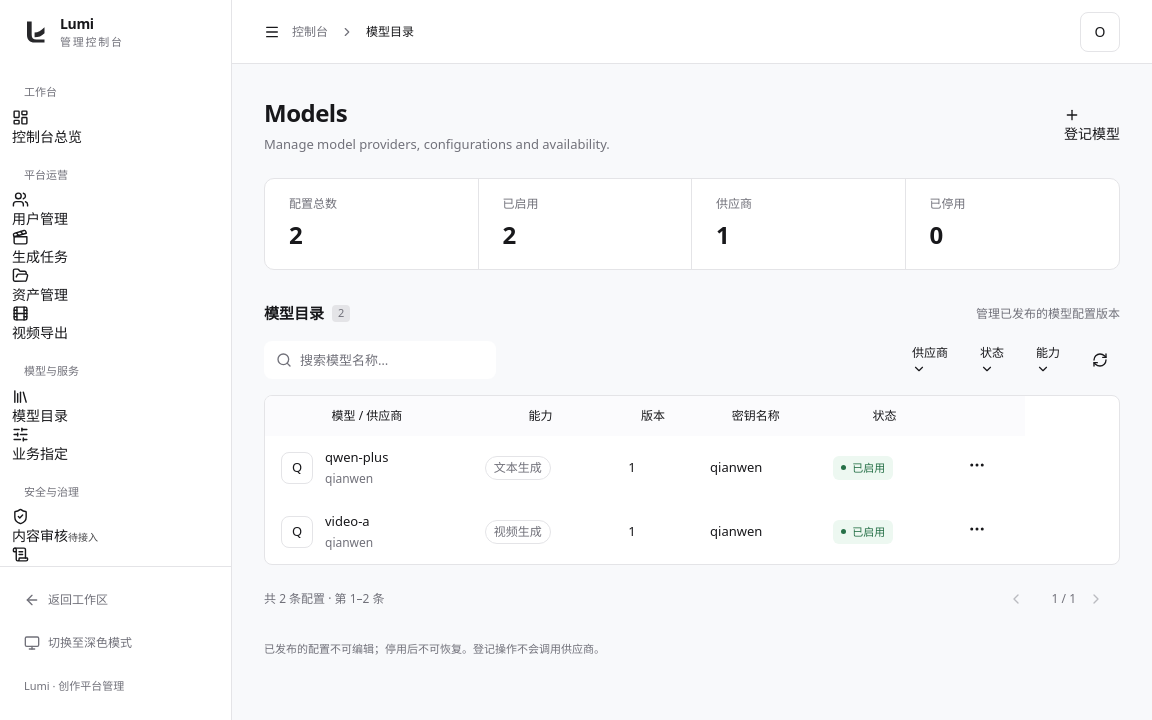
Test: model admin page › filters the catalog by capability tag and model name
This screenshot has width=1152, height=720.
Expected: the text "qwen-plus" is shown, [325,448,388,468]
Type "plus" into the field labelled "搜索模型名称" at point(380, 360), box [264,341,496,379]
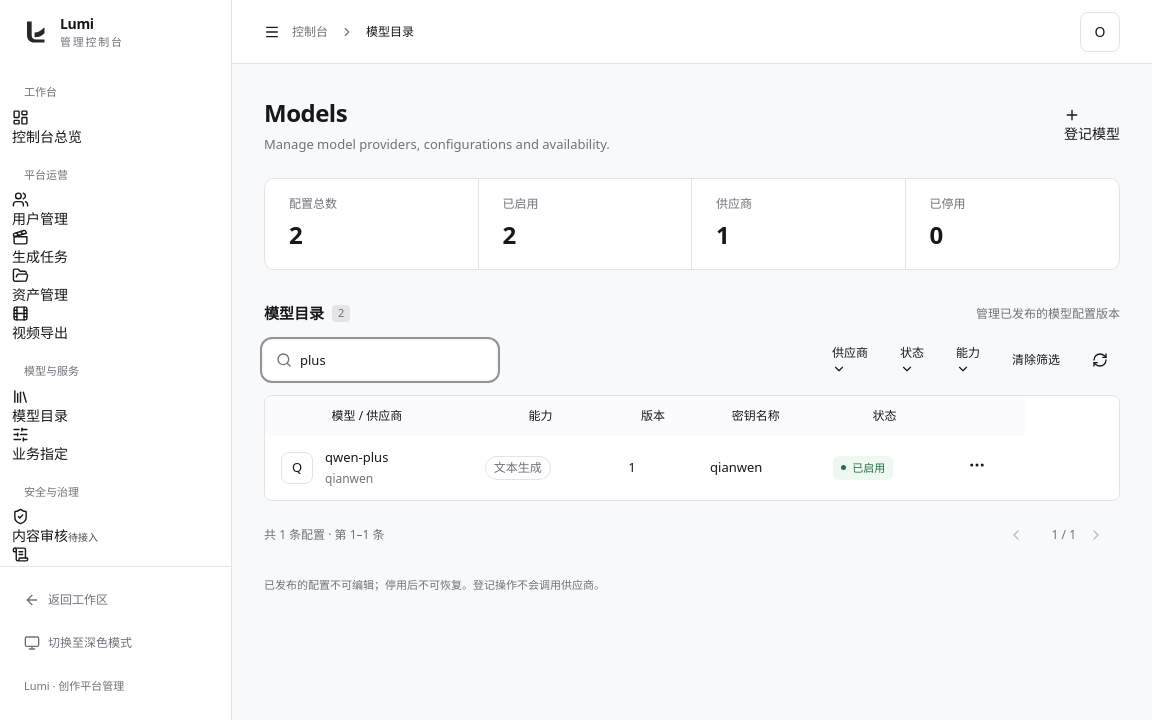
Expected: the text "qwen-plus" is shown, [325,448,388,468]
Expected: the text "video-a" is gone
Clear the field named "搜索模型名称" at point(380, 360), box [264,341,496,379]
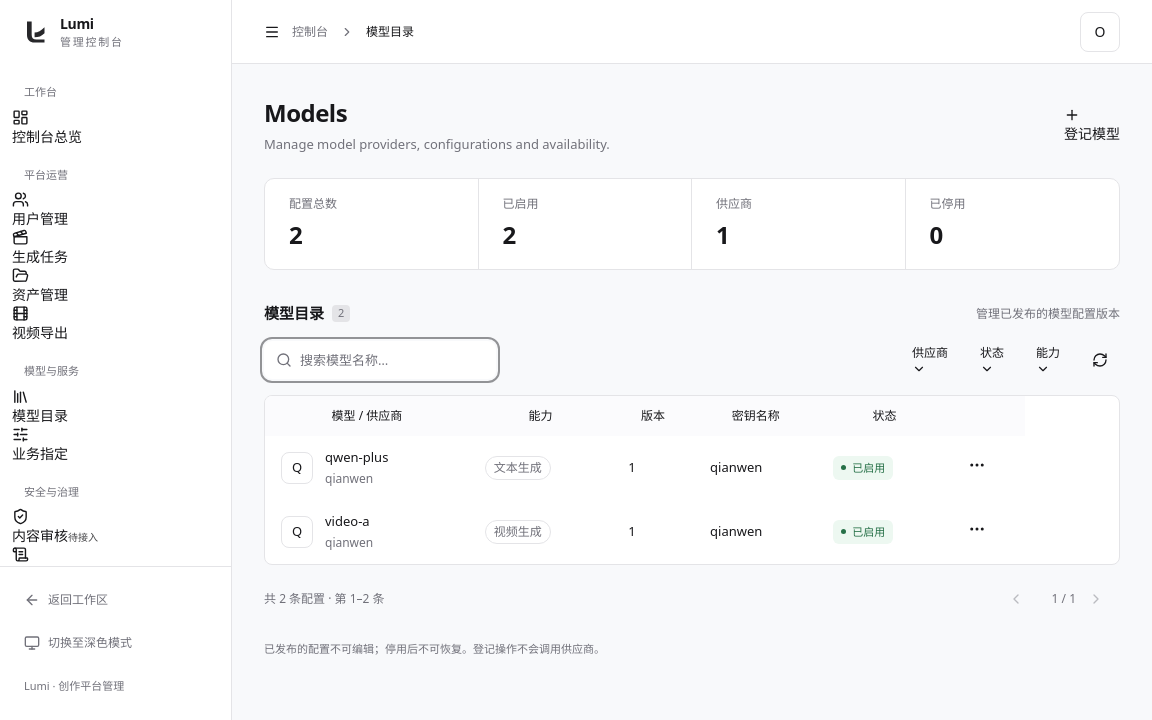
Click the button with aria-label "能力筛选" at point(1048, 360), box [1024,342,1072,378]
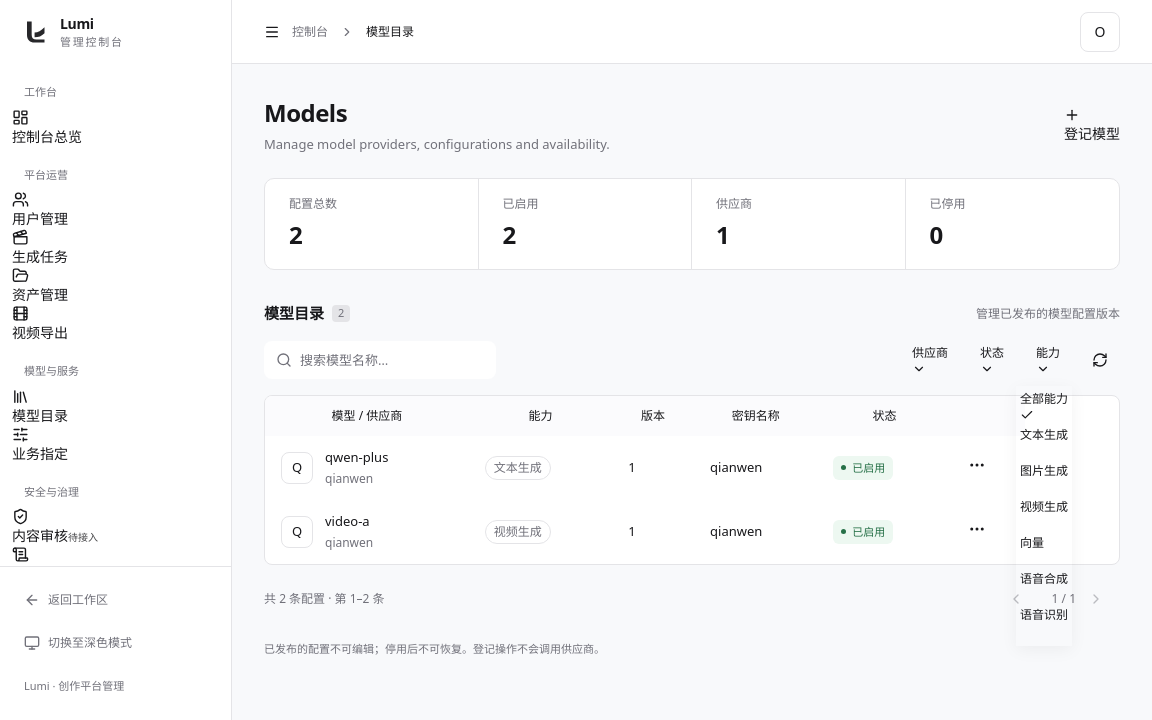
Click the menu item "视频生成" at point(1044, 506), box [1020,498,1068,515]
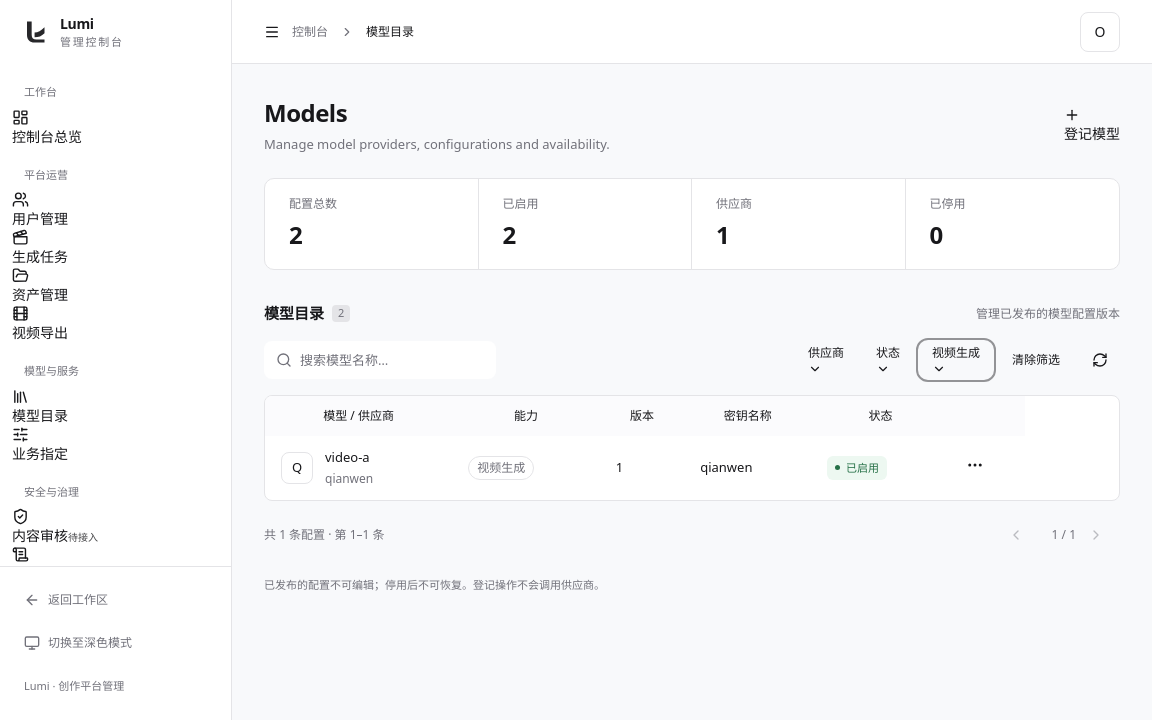
Expected: the text "video-a" is shown, [325,448,373,468]
Expected: the text "qwen-plus" is gone
